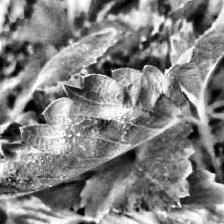Powdery Mildew Leaf: (0, 64, 193, 206)
